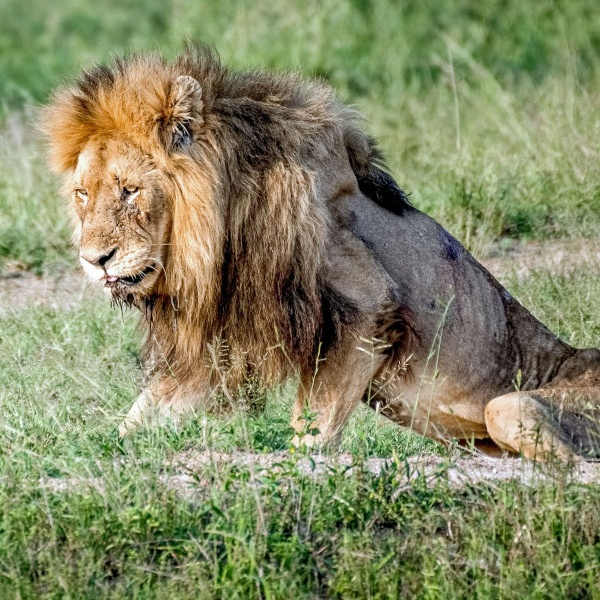Lion: (44, 48, 600, 481)
